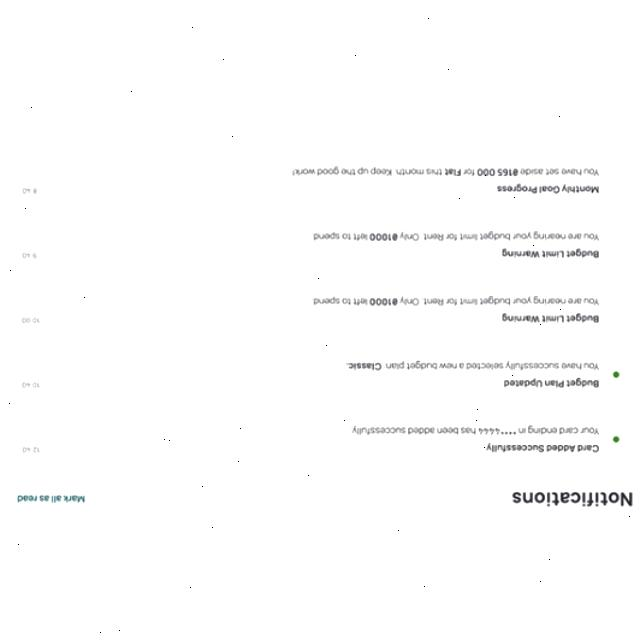QLabel: (350, 426, 600, 436), (400, 230, 600, 242), (384, 362, 602, 372), (512, 489, 634, 506), (400, 296, 600, 306), (292, 166, 442, 177), (486, 442, 600, 454), (496, 182, 598, 194), (502, 378, 602, 390), (502, 312, 600, 324), (502, 249, 600, 259), (520, 166, 600, 176), (16, 494, 86, 504), (312, 232, 368, 240), (312, 297, 368, 305), (478, 168, 518, 176), (348, 362, 382, 371), (19, 314, 43, 326), (370, 297, 398, 307), (18, 380, 42, 390), (370, 233, 398, 241), (22, 446, 42, 456), (22, 250, 40, 260), (21, 187, 39, 196), (445, 168, 461, 176), (464, 168, 474, 176)
VCard: (8, 344, 634, 404), (9, 410, 634, 470), (9, 150, 634, 210), (8, 280, 634, 338), (8, 216, 634, 274)
VIcon: (612, 435, 620, 443), (612, 371, 620, 379)
